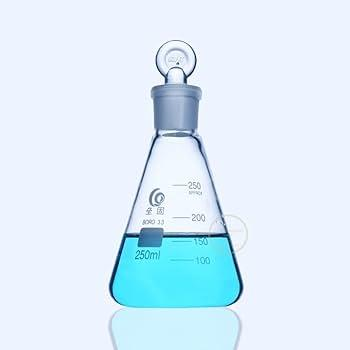Titrarion: (99, 17, 248, 313)
